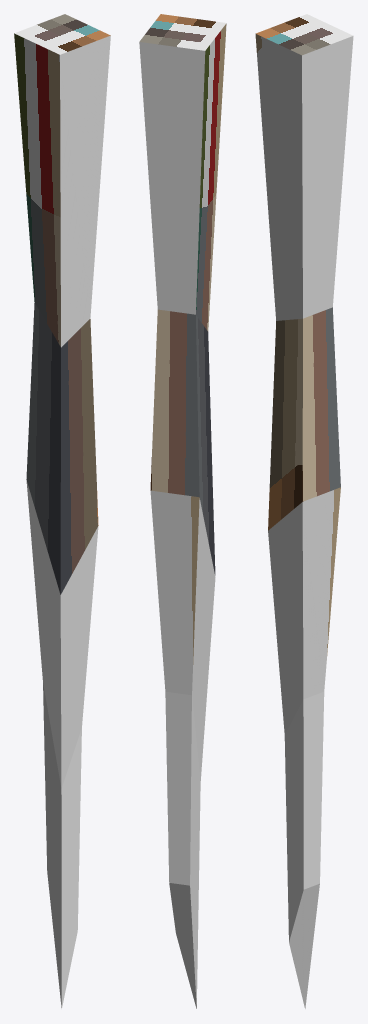
File: LavaDecorationMediumLavaStream1.fbx
3 views of the same model, side by side, from view 1: azimuth 90°, elevation 25°; view 2: azimuth 210°, elevation 25°; view 3: azimuth 270°, elevation 25° (orthographic).
Visible parts, largest first — view 1: LavaDecorationMediumLavaStream1; view 2: LavaDecorationMediumLavaStream1; view 3: LavaDecorationMediumLavaStream1.
Boxes of the visible parts, x1,y1,x2,y2 form: LavaDecorationMediumLavaStream1: [14, 14, 110, 1008]; LavaDecorationMediumLavaStream1: [139, 14, 226, 1008]; LavaDecorationMediumLavaStream1: [255, 14, 353, 1008].
Bounding box in the file's own units: 196 × 2165 × 196.
Materials: 1 (1 with a texture image).
